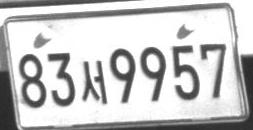3: (47, 52, 75, 107)
5: (171, 45, 199, 100)
7: (200, 43, 226, 98)
8: (18, 53, 46, 108)
9: (139, 46, 167, 102), (109, 48, 136, 104)
서: (80, 60, 108, 105)
